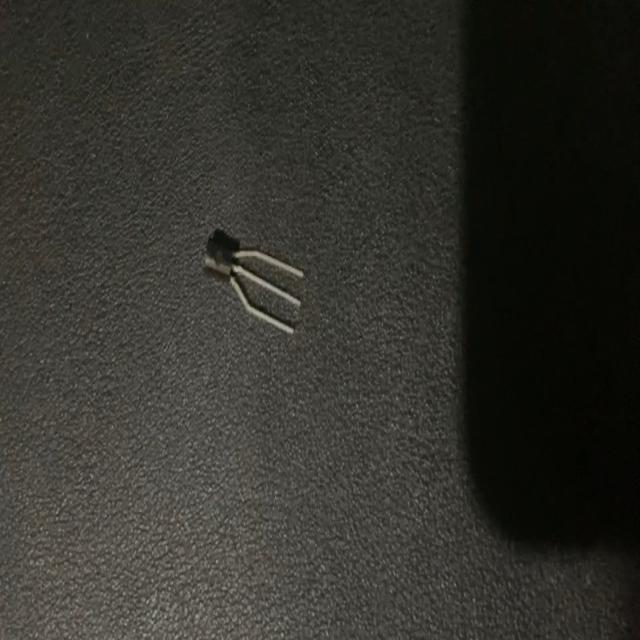BJT: (199, 225, 310, 340)
